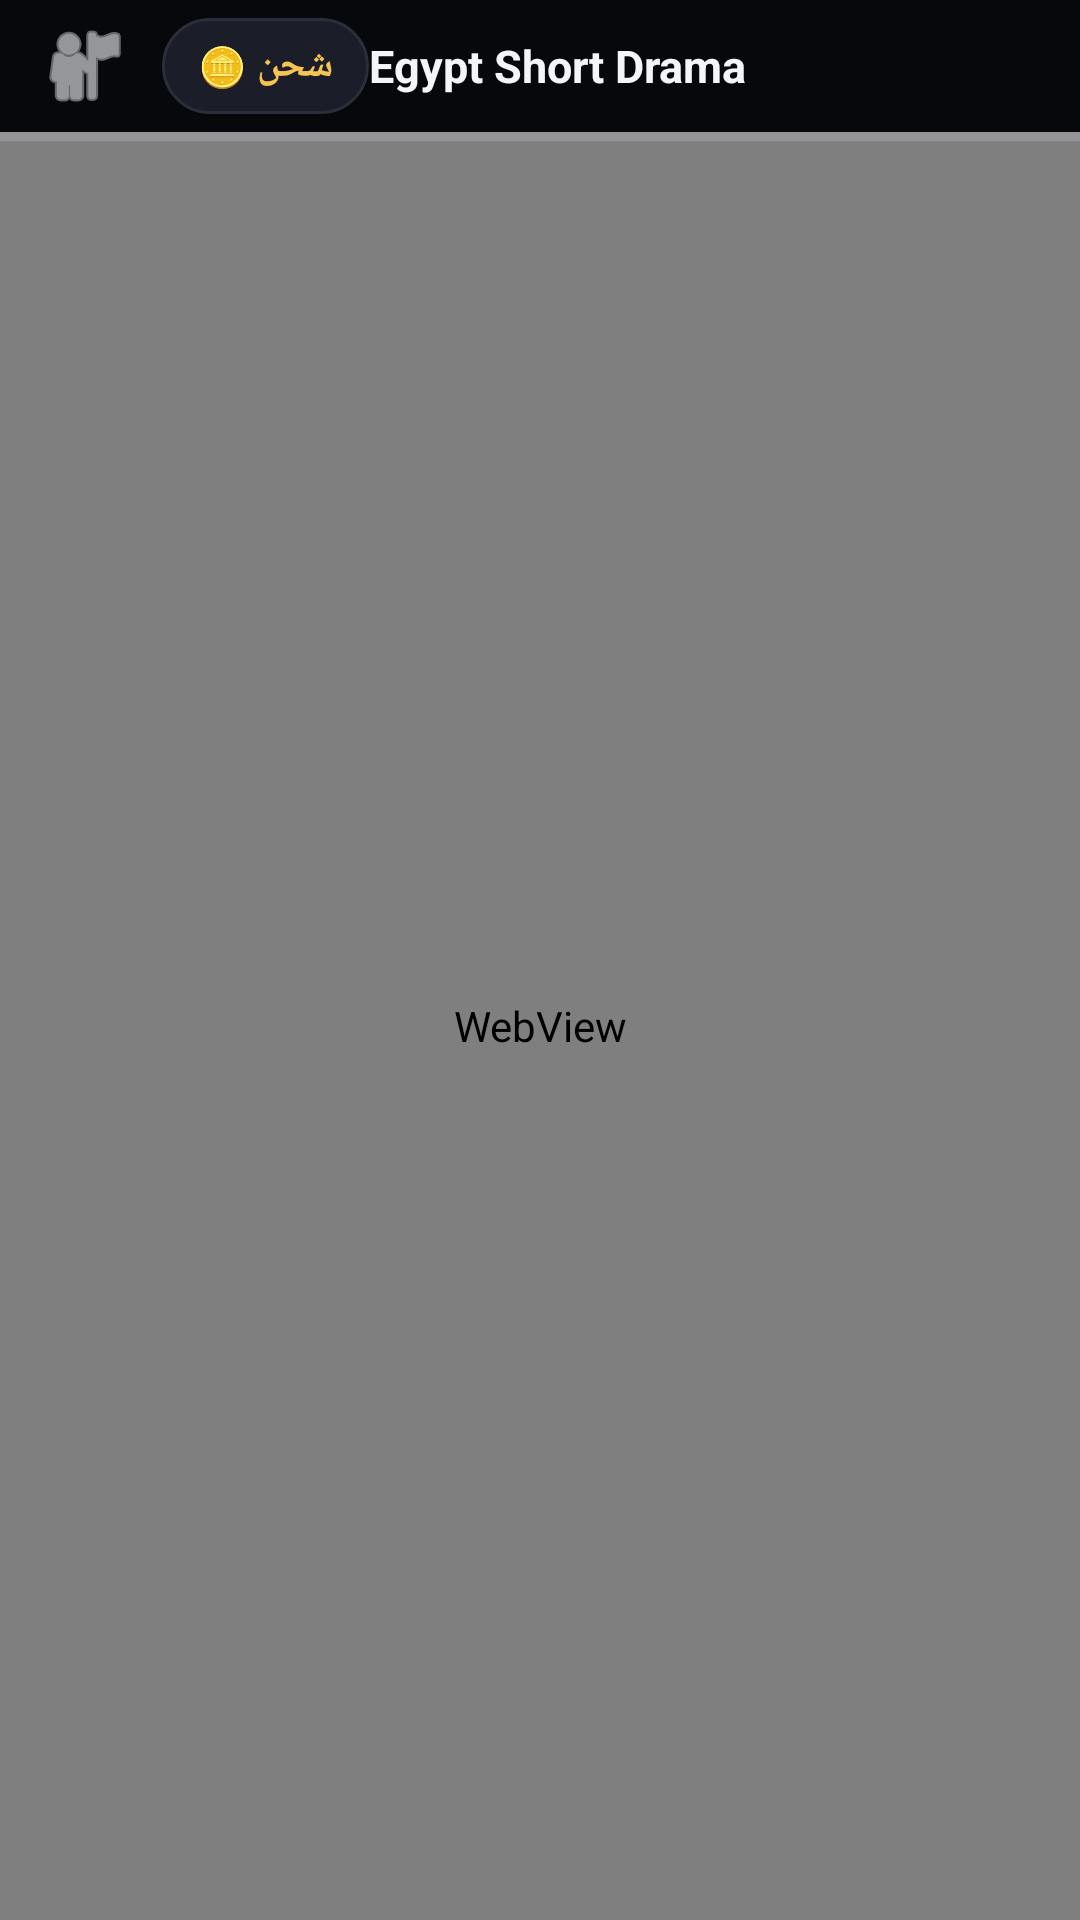

Icon bounding boxes for this 1080px x 1920px phone screenshot, format (x1, y1, x2, y2):
حسابي: (49, 30, 121, 102)
